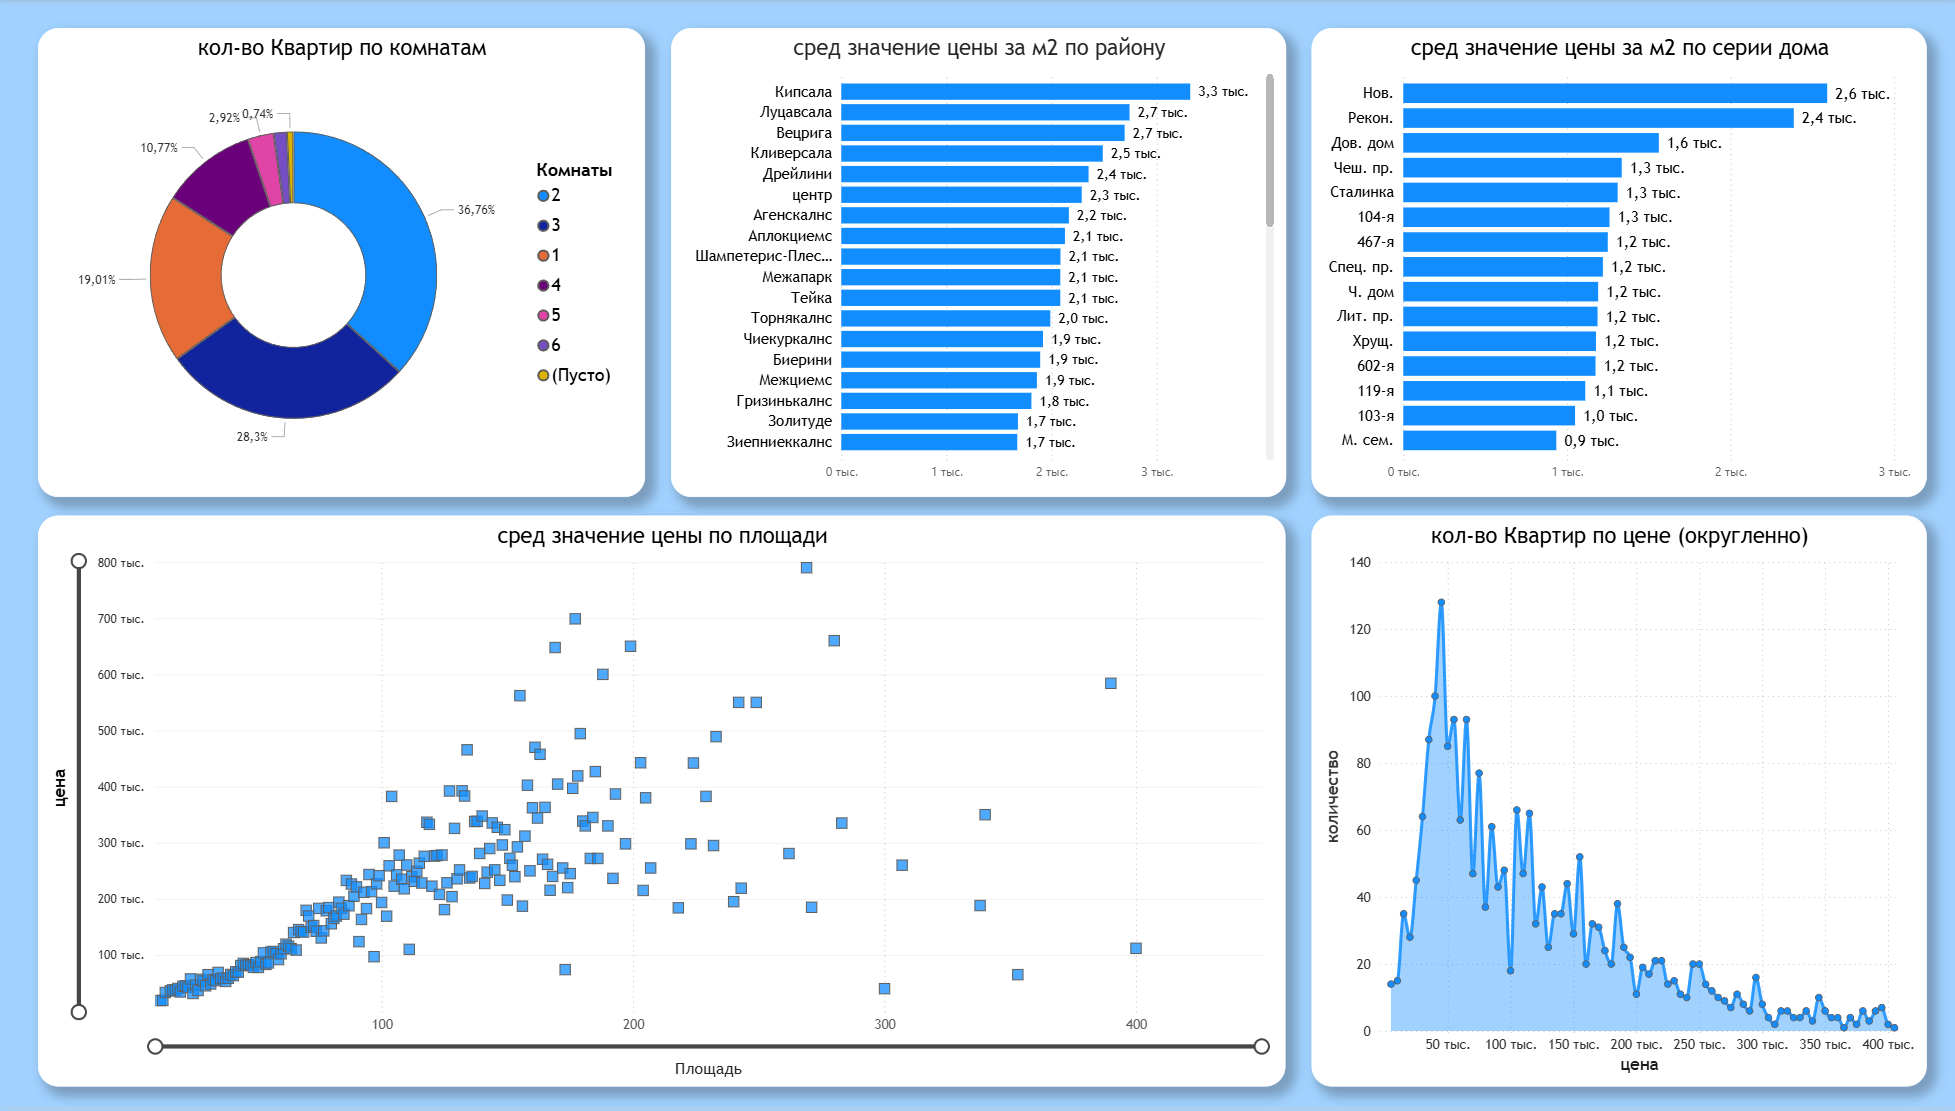

The dashboard page shown, as its layout file describes it:
{"tool":"powerbi","page":{"name":"Графики","canvas":[1920,1080],"ordinal":1},"visuals":[{"type":"donutChart","title":"кол-во Квартир по комнатам","fields":{"Category":["riga_flats_2026-02-11.Комнаты"],"Y":["CountNonNull(riga_flats_2026-02-11.ID)"]},"box":[38.3,23.3,595,460],"z":0},{"type":"scatterChart","title":"сред значение цены по площади","fields":{"X":["riga_flats_2026-02-11.Площадь"],"Y":["riga_flats_2026-02-11.Цена"]},"box":[38.3,501.7,1223.3,560],"z":1000},{"type":"barChart","title":"сред значение цены за м2 по району","fields":{"Category":["riga_flats_2026-02-11.Район"],"Y":["Avg(riga_flats_2026-02-11.Цена за м2)"]},"box":[658.3,23.3,603.3,460],"z":2000},{"type":"barChart","title":"сред значение цены за м2 по серии дома","fields":{"Category":["riga_flats_2026-02-11.Серия"],"Y":["Avg(riga_flats_2026-02-11.Цена за м2)"]},"box":[1286.7,23.3,603.3,460],"z":3000},{"type":"lineChart","title":"кол-во Квартир по цене (округленно)","fields":{"Y":["CountNonNull(riga_flats_2026-02-11.ID)"],"Category":["riga_flats_2026-02-11.Цена (ячейки)"]},"box":[1286.7,501.7,603.3,560],"z":4000}]}

Visuals, with their boxes in screenshot pixels (x1, y1, x2, y2), scaled from the page's 1920x1080 canvas onto the 1955x1111 screenshot:
"кол-во Квартир по комнатам" donutChart: 39:24:645:497
"сред значение цены по площади" scatterChart: 39:516:1285:1092
"сред значение цены за м2 по району" barChart: 670:24:1285:497
"сред значение цены за м2 по серии дома" barChart: 1310:24:1924:497
"кол-во Квартир по цене (округленно)" lineChart: 1310:516:1924:1092
